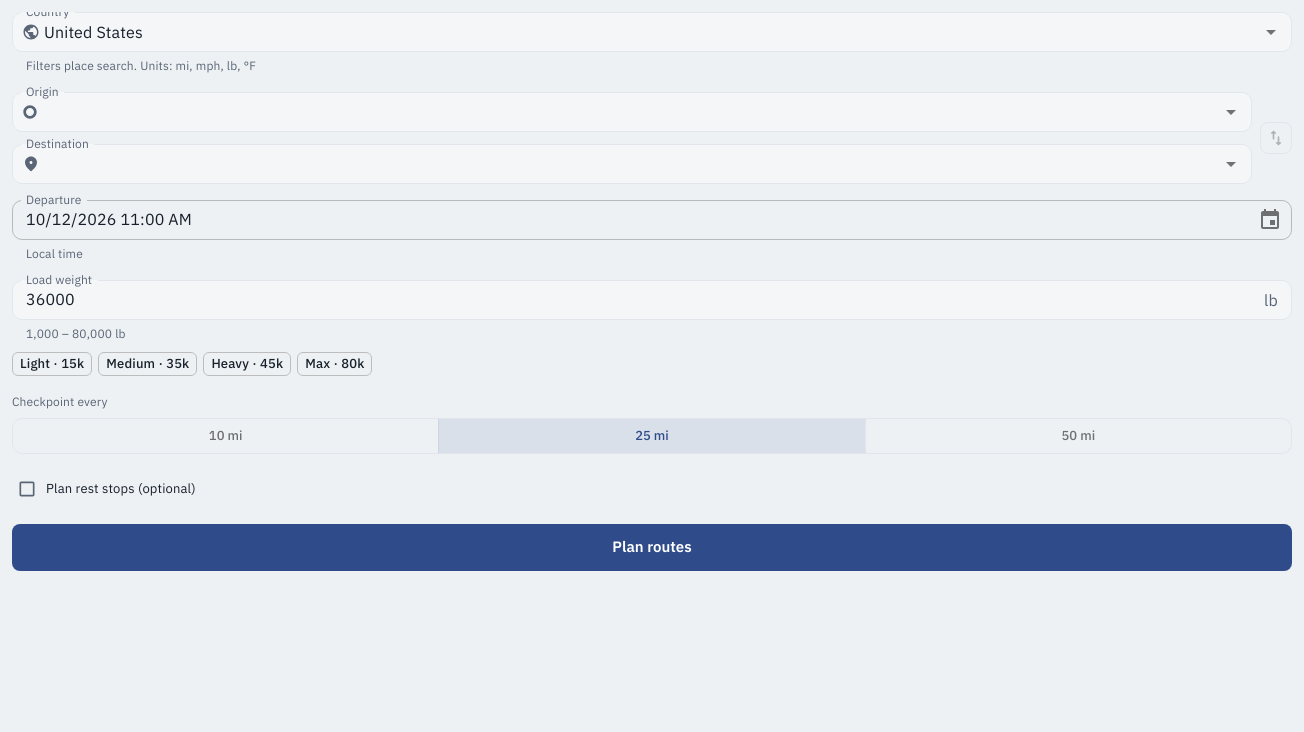
Test case: TripForm › shows inline errors instead of submitting an incomplete trip
The width and height of the screenshot is (1304, 732).
Click the button "Plan routes" at {"x": 652, "y": 548}, box [12,524,1292,571]
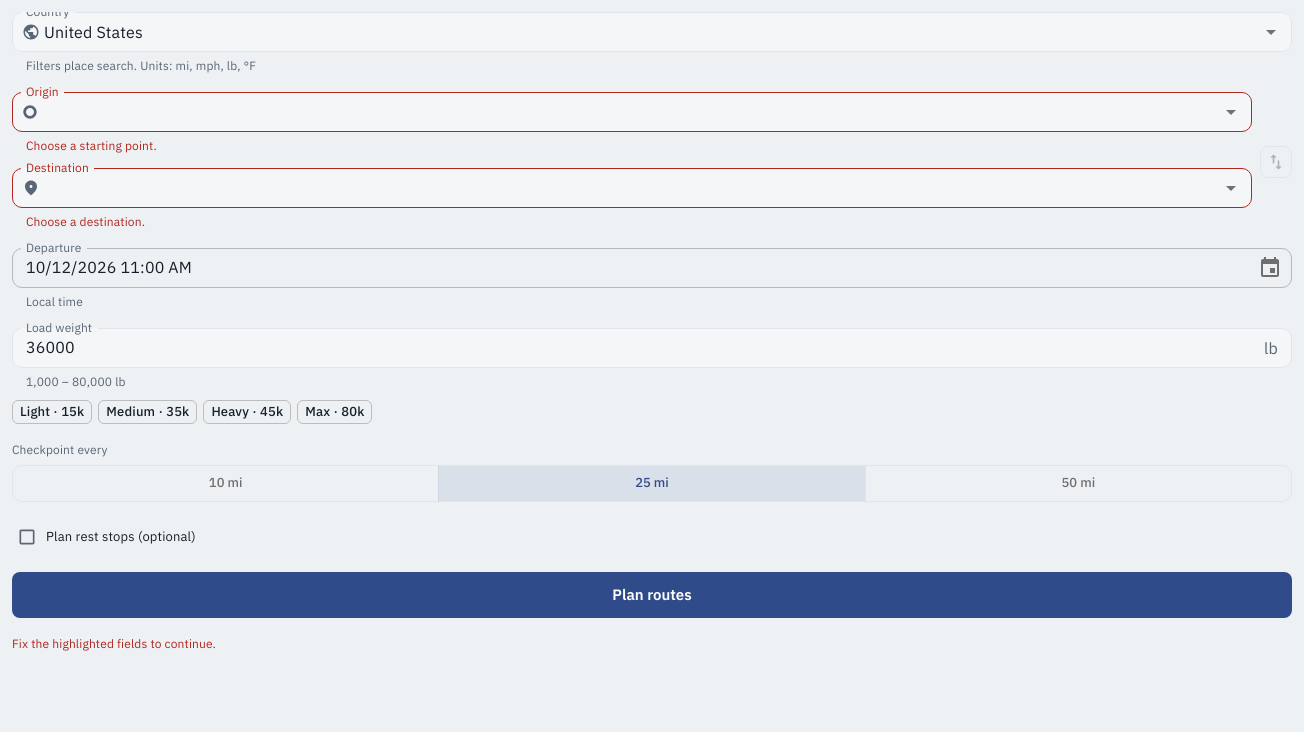
Result: the text "Choose a starting point." is shown at [26,138,157,153]
Result: the text "Choose a destination." is shown at [26,214,145,229]
